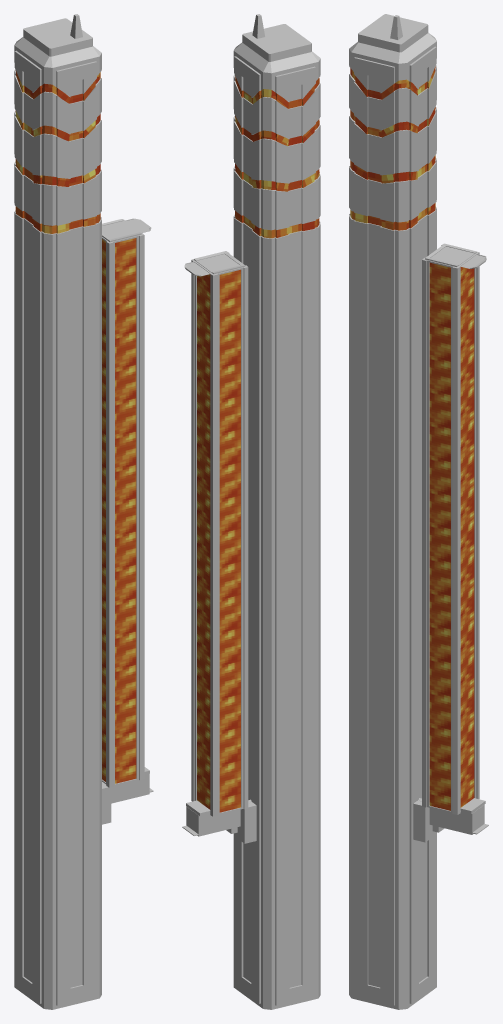
Rendered from Eleveatorr.fbx.
3 views of the same model, side by side, from view 1: azimuth 30°, elevation 25°; view 2: azimuth 210°, elevation 25°; view 3: azimuth 330°, elevation 25° (orthographic).
Visible parts, largest first — view 1: Cube__4__003__4_, Cube__2__002, Cube__1_, Cube__2_; view 2: Cube__4__003__4_, Cube__2__002, Cube__1_, Cube__3_; view 3: Cube__4__003__4_, Cube__2__002, Cube__1_, Cube__2_.
Part boxes in pixels (<box>): Cube__4__003__4_: <box>14,14,101,1009</box>; Cube__2__002: <box>102,218,151,787</box>; Cube__1_: <box>102,773,149,803</box>; Cube__2_: <box>102,782,111,824</box>; Cube__4__003__4_: <box>233,14,320,1009</box>; Cube__2__002: <box>184,251,248,816</box>; Cube__1_: <box>186,801,252,836</box>; Cube__3_: <box>237,799,256,843</box>; Cube__4__003__4_: <box>349,14,436,1009</box>; Cube__2__002: <box>422,243,486,814</box>; Cube__1_: <box>418,799,484,834</box>; Cube__2_: <box>413,798,432,842</box>.
Bounding box in the file's own units: 5594 × 43491 × 3063.
